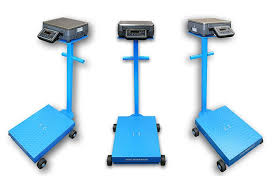Industrial Scale: (8, 17, 89, 169), (187, 17, 265, 173), (106, 21, 166, 166)
